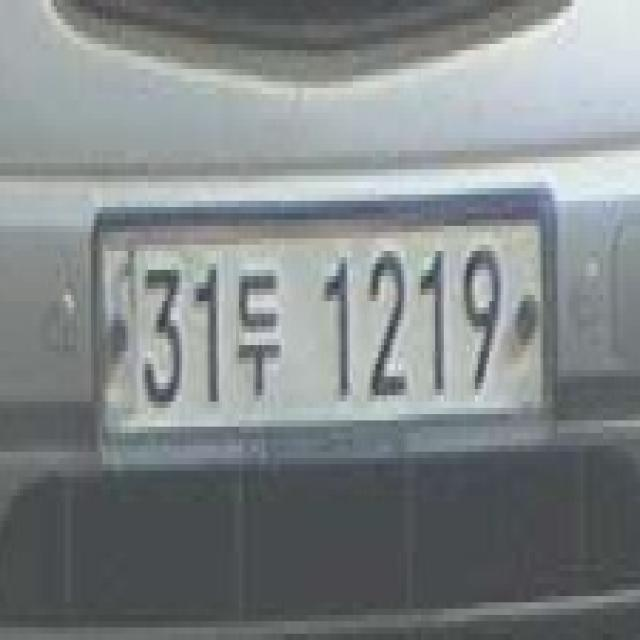1: (190, 264, 222, 414), (418, 244, 447, 402), (324, 257, 353, 402)
2: (364, 245, 410, 414)
3: (142, 263, 185, 408)
9: (460, 238, 500, 389)
du: (236, 269, 282, 402)
license_plate: (91, 201, 552, 445)
